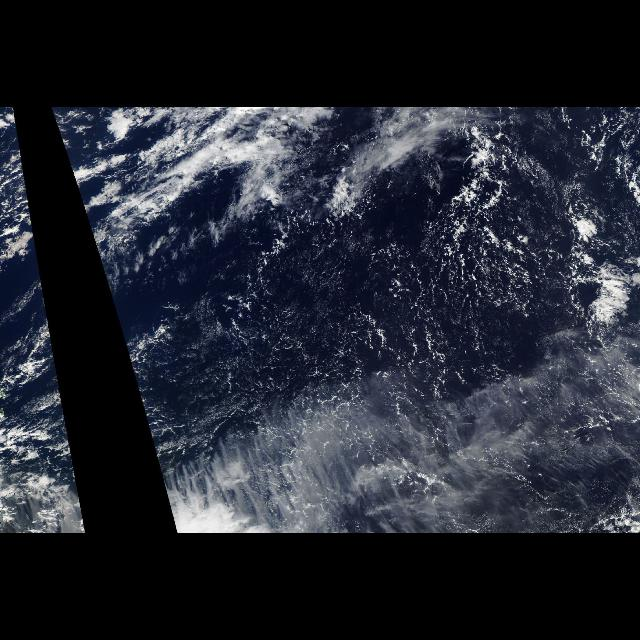Fish: (430, 135, 532, 327)
Gravel: (207, 164, 565, 480)
Sugar: (179, 264, 475, 370)
